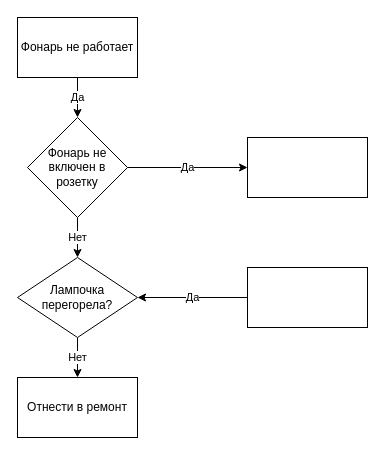
Some shapes in this 385 by 455 pixel diagram are drawn without their labels. The box of each missing label's shape, as (x1, y1, x2, y2) in pixels:
Включить в разетку: (246, 136, 368, 198)
Заменить лампочку: (246, 266, 368, 328)
